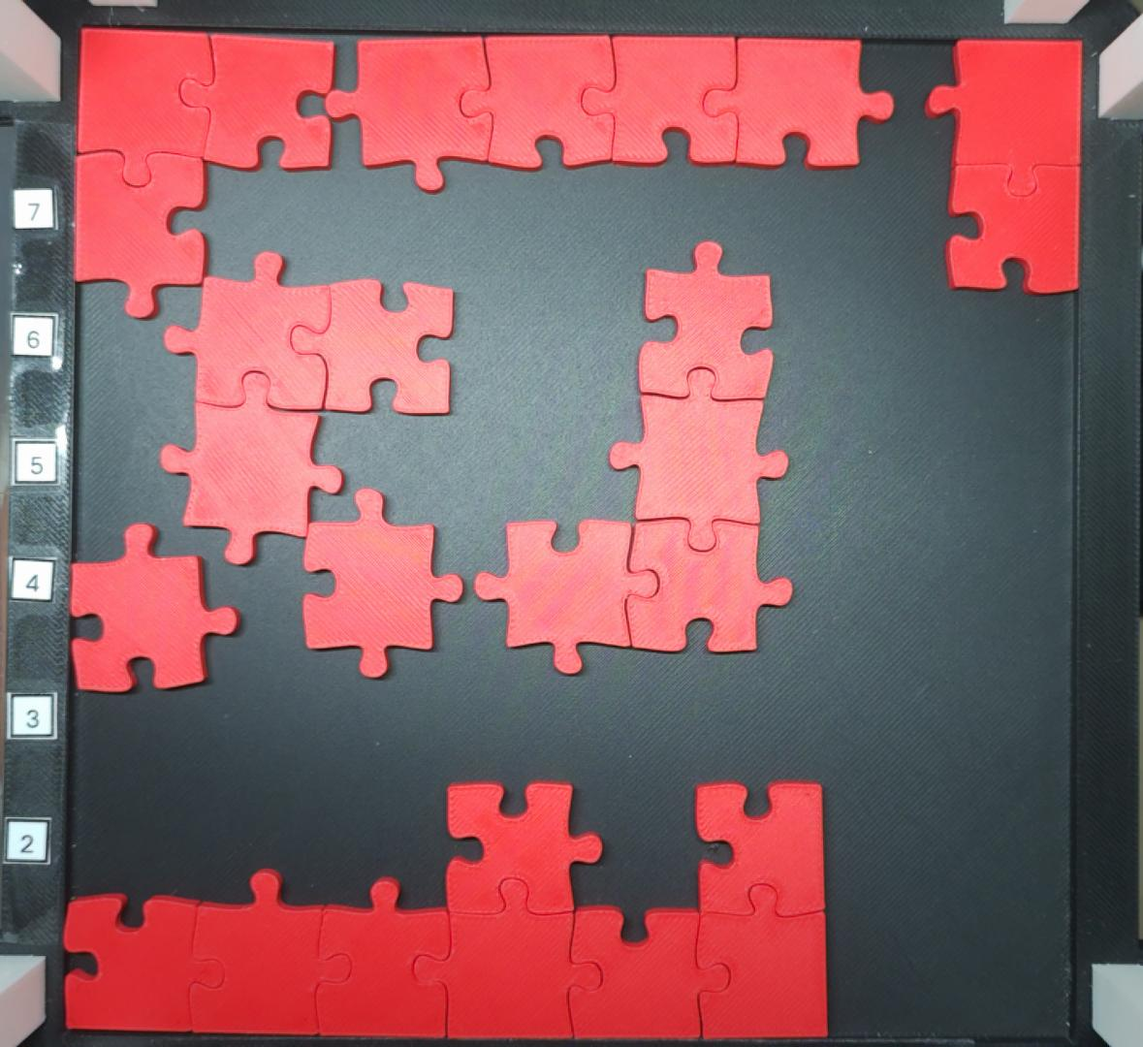p_1: (302, 486, 466, 681), (67, 521, 243, 696)
p_2: (923, 36, 1083, 296)
p_3: (158, 249, 457, 567), (72, 24, 337, 322)
p_4: (472, 238, 795, 679), (324, 32, 897, 195)
p_m: (59, 780, 831, 1040)
